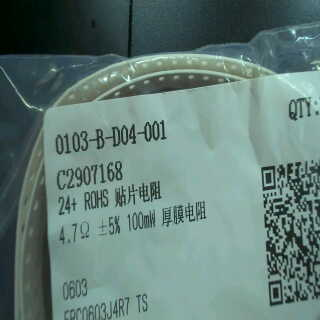4.7R: (56, 218, 97, 247)
